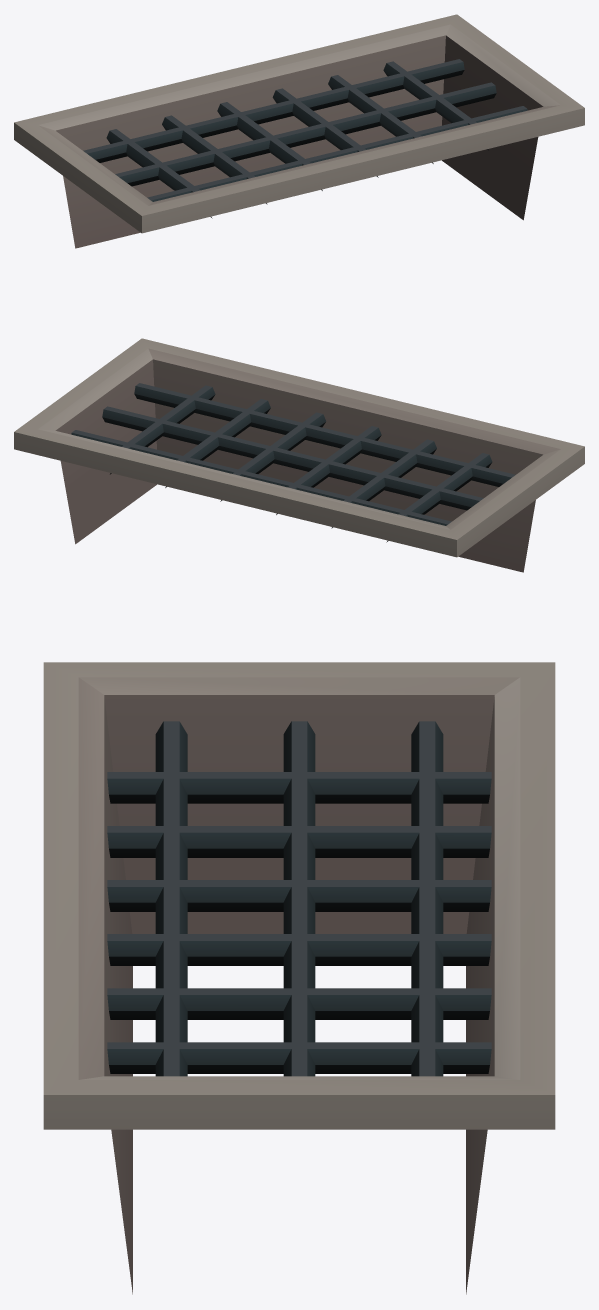
File: floor_tile_grate_open.gltf
The picture shows the model from 3 angles, top to bottom: view 1: azimuth 30°, elevation 25°; view 2: azimuth 150°, elevation 25°; view 3: azimuth 270°, elevation 25°; orthographic projection. The views are drawn at different scales.
Visible parts, largest first — view 1: floor_tile_grate_open; view 2: floor_tile_grate_open; view 3: floor_tile_grate_open.
Boxes of the visible parts, <box> form: floor_tile_grate_open: <box>14,14,584,248</box>; floor_tile_grate_open: <box>14,338,584,572</box>; floor_tile_grate_open: <box>43,662,555,1294</box>.
Size of the model in its own units: 4 by 1.03 by 2.
1 material, 1 textured.
